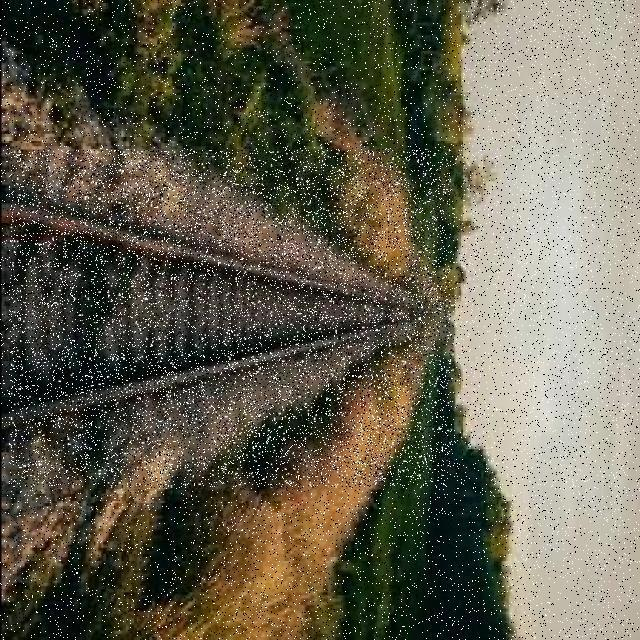rail: (11, 152, 452, 488)
